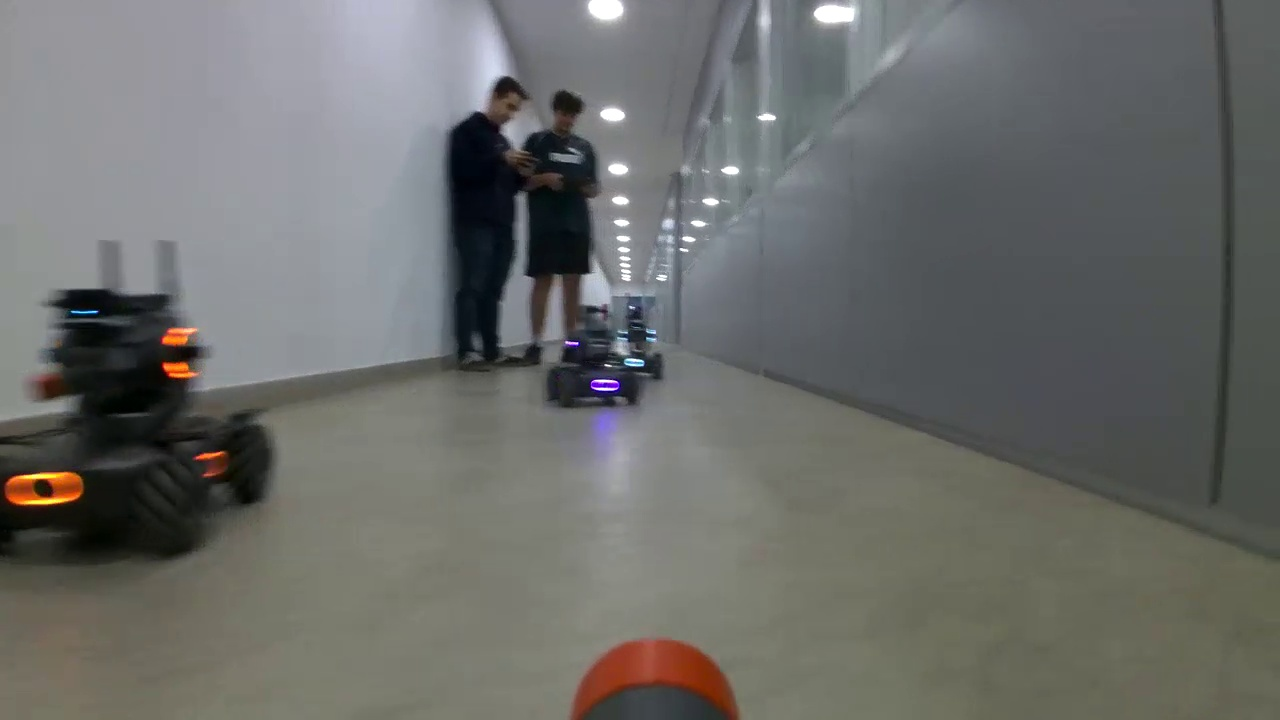robot: (1, 286, 279, 562), (544, 320, 640, 407), (613, 304, 665, 380)
